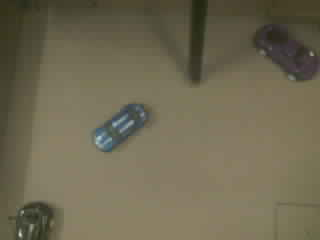Car: (256, 25, 318, 79), (94, 104, 147, 151), (17, 202, 52, 239)
